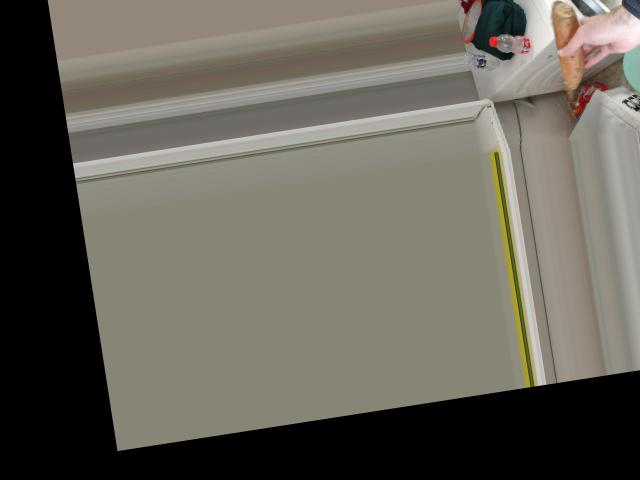sweet_potato: (551, 7, 589, 95)
